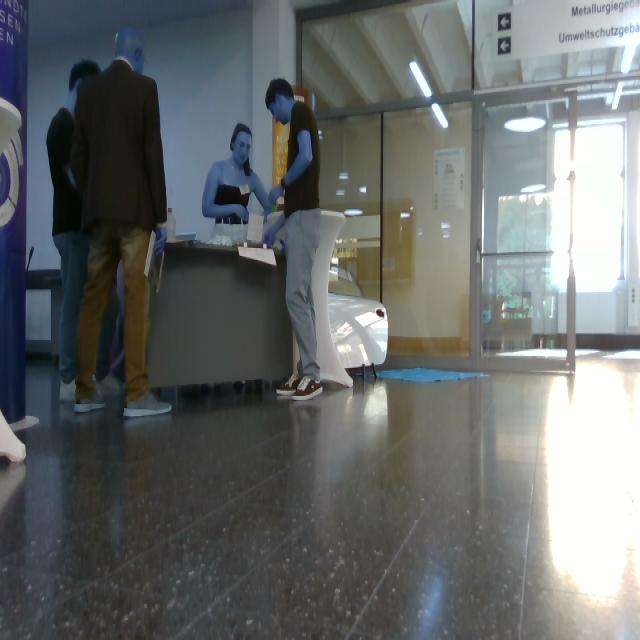banner: (1, 1, 39, 432)
desk: (149, 242, 293, 388)
door: (470, 92, 577, 372), (573, 124, 640, 349)
light bulb: (505, 105, 547, 133), (410, 61, 431, 100), (621, 44, 638, 74), (431, 102, 449, 129), (613, 82, 622, 110)
person: (72, 29, 171, 418), (47, 61, 100, 400), (266, 80, 322, 400), (203, 124, 280, 242)
table: (313, 212, 352, 386)
tiled floor: (1, 360, 640, 640)
